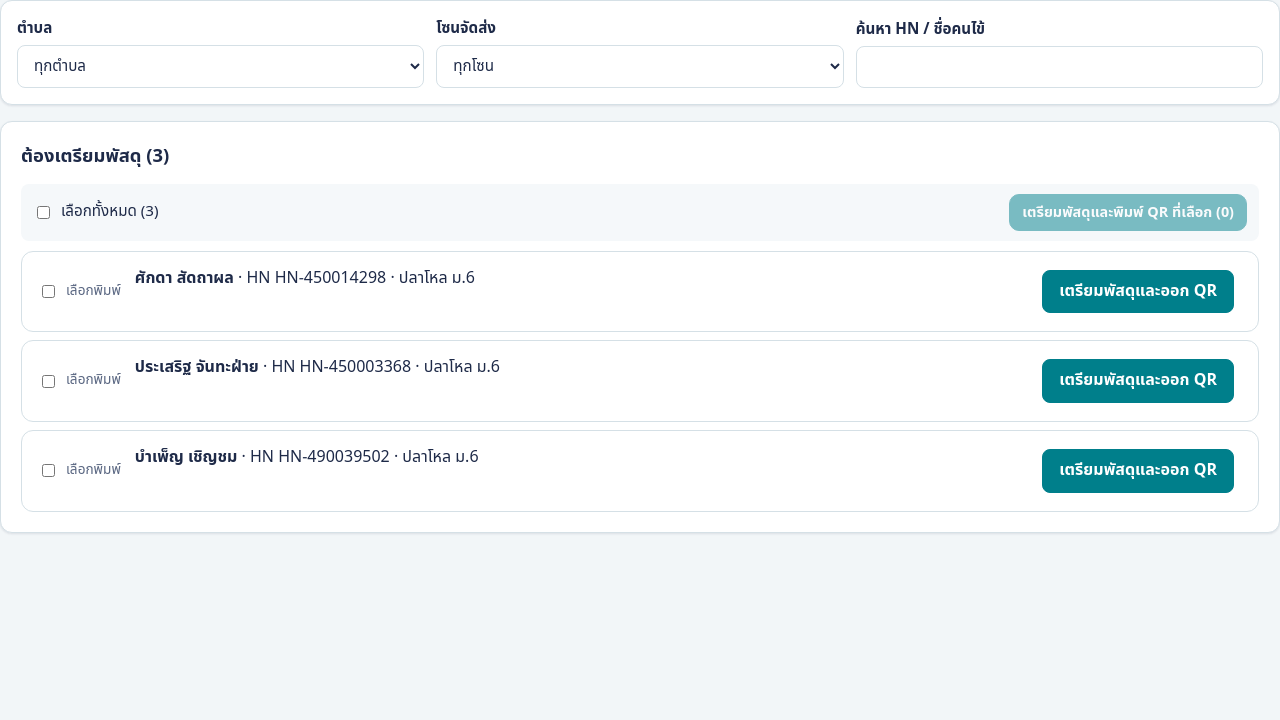
Test: finds a patient to prepare by HN or name, and select-all ticks only the matches
The image size is (1280, 720).
Expected: the heading "ต้องเตรียมพัสดุ (3)" is shown, x1=21 y1=142 x2=169 y2=170
Type "0003368" into the search field labelled "ค้นหา HN / ชื่อคนไข้" at point(1059, 67), box x1=856 y1=46 x2=1263 y2=88
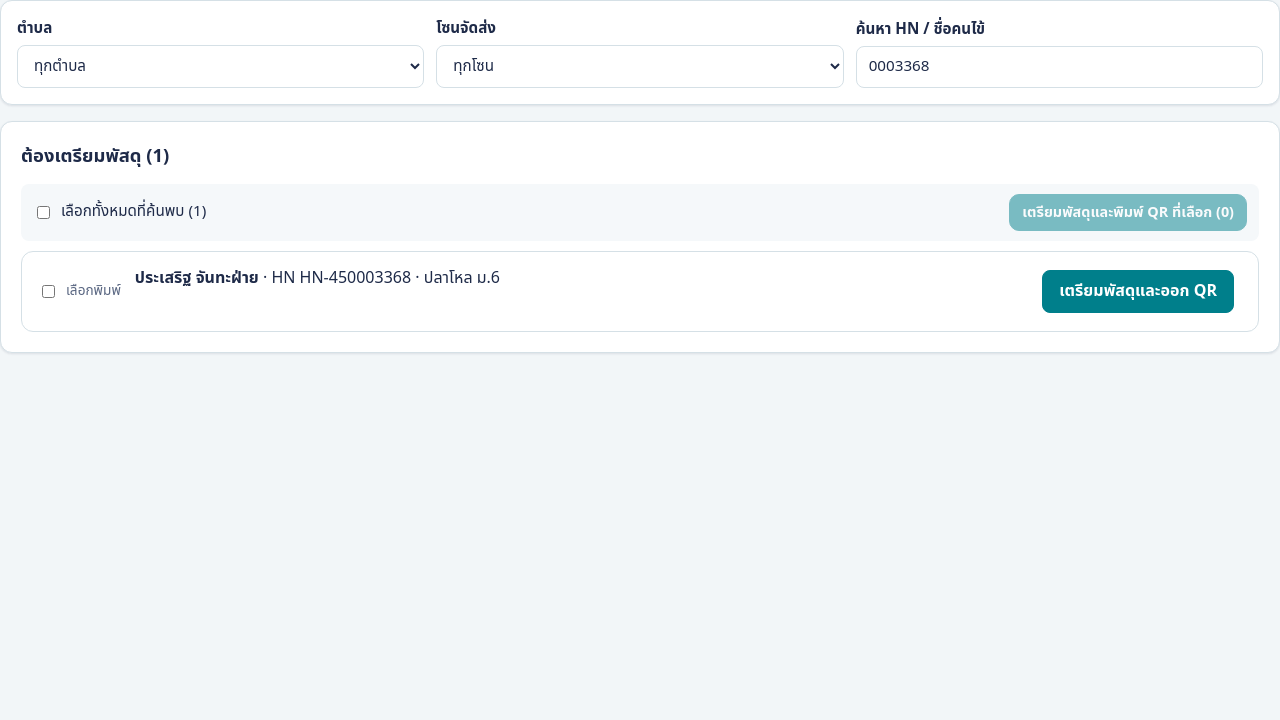
Expected: the text "ประเสริฐ จันทะฝ่าย" is shown, x1=135 y1=266 x2=259 y2=290
Result: the heading "ต้องเตรียมพัสดุ (1)" is shown at x1=21 y1=142 x2=169 y2=170
Replace the text in the search field labelled "ค้นหา HN / ชื่อคนไข้" with "เชิญ" at point(1059, 67), box x1=856 y1=46 x2=1263 y2=88
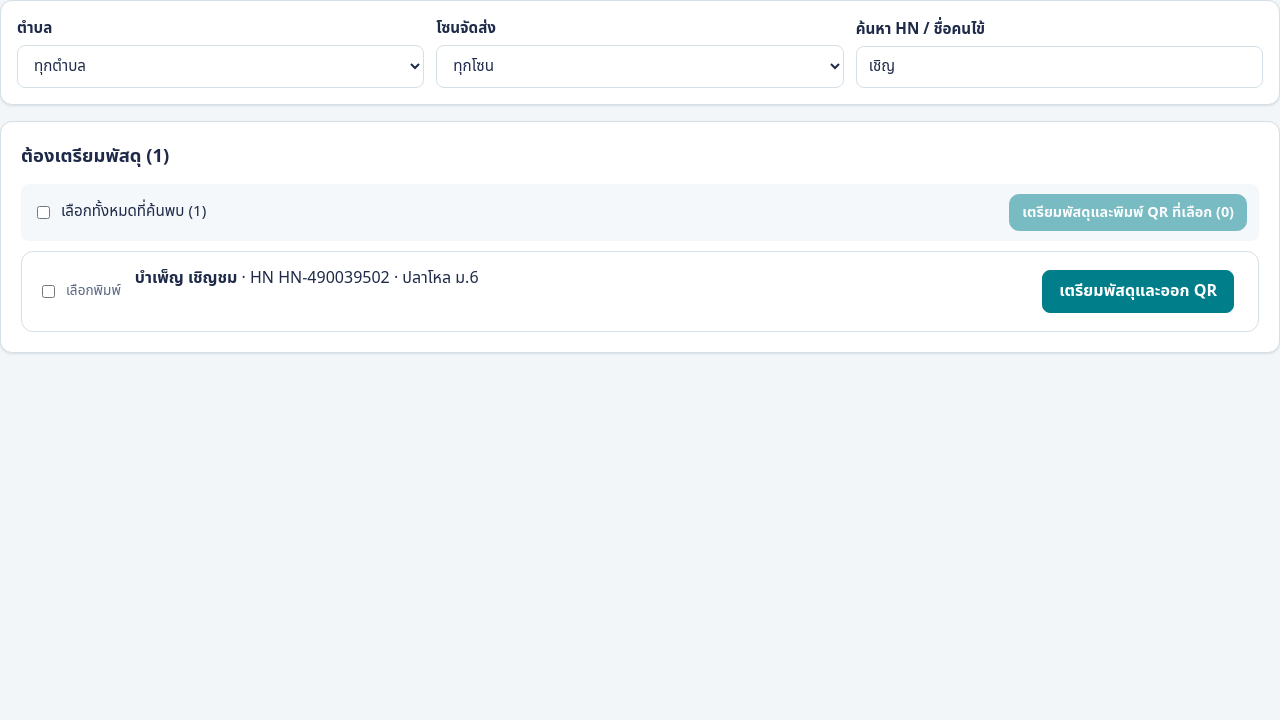
Expected: the text "ศักดา สัดถาผล" is not shown
Result: the text "บำเพ็ญ เชิญชม" is shown at x1=135 y1=266 x2=237 y2=290
Click the checkbox labelled "เลือกทั้งหมด" at point(44, 212), box x1=37 y1=206 x2=50 y2=219
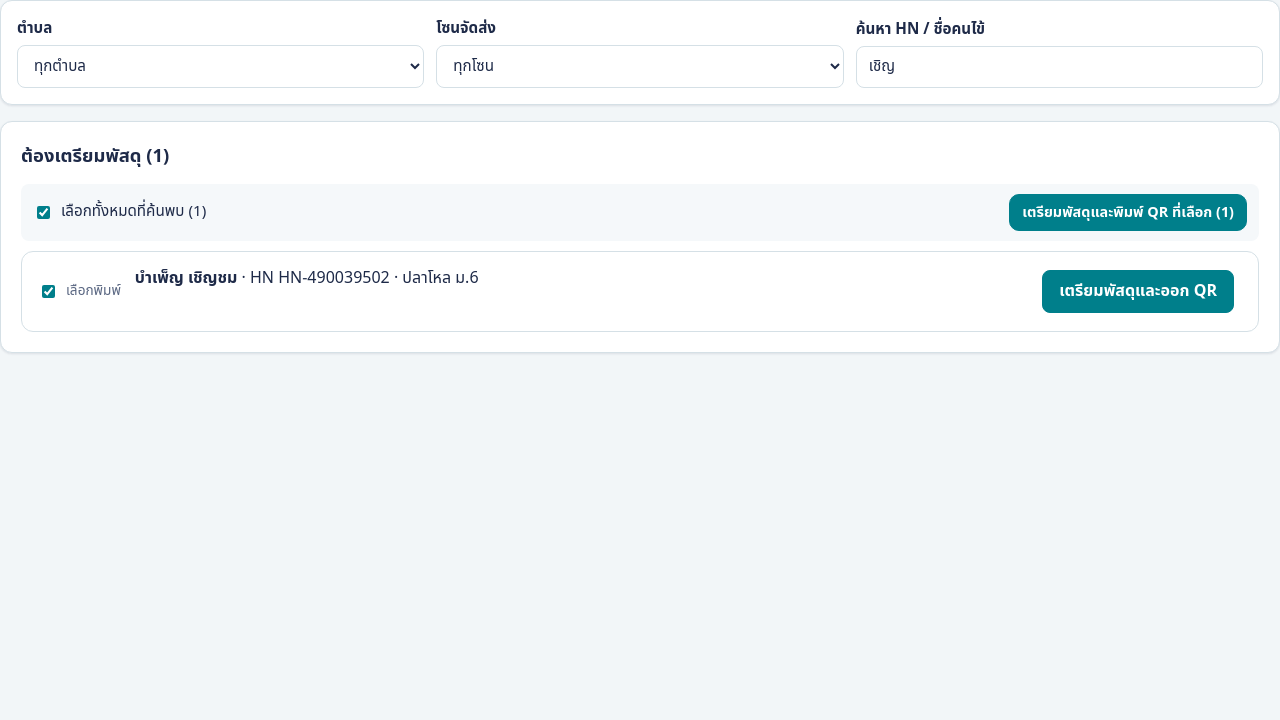
Result: the button "เตรียมพัสดุและพิมพ์ QR ที่เลือก (1)" is shown at x1=1009 y1=194 x2=1247 y2=231
Replace the text in the search field labelled "ค้นหา HN / ชื่อคนไข้" with "ประเสริฐ จันทะฝ่าย HN-450003368" at point(1059, 67), box x1=856 y1=46 x2=1263 y2=88
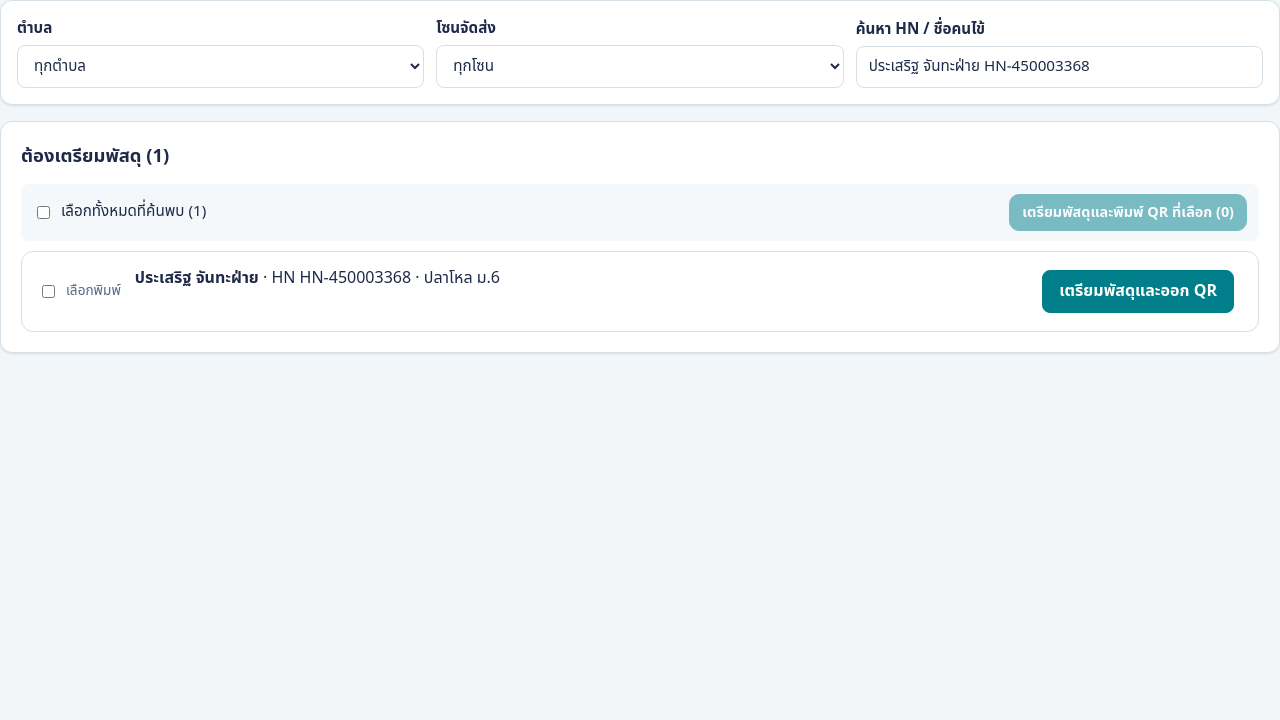
Result: the heading "ต้องเตรียมพัสดุ (1)" is shown at x1=21 y1=142 x2=169 y2=170
Replace the text in the search field labelled "ค้นหา HN / ชื่อคนไข้" with "ไม่มีคนนี้" at point(1059, 67), box x1=856 y1=46 x2=1263 y2=88
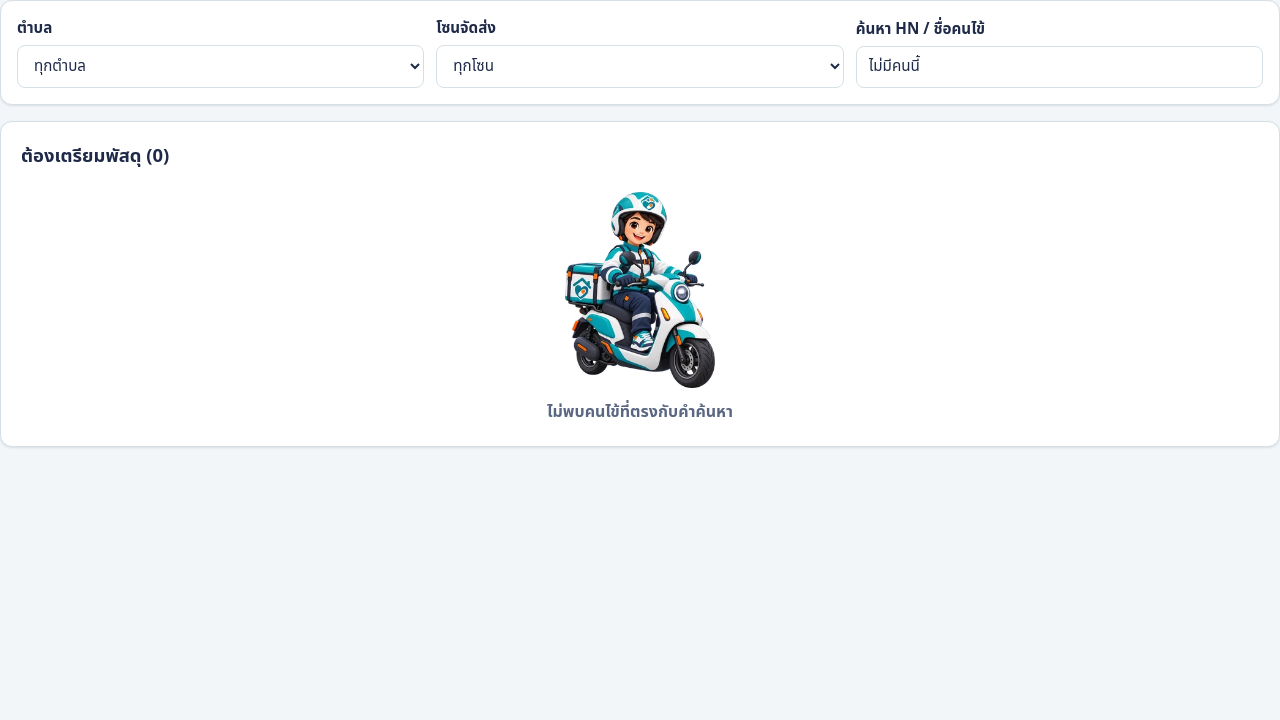
Result: the text "ไม่พบคนไข้ที่ตรงกับคำค้นหา" is shown at x1=547 y1=400 x2=733 y2=426
